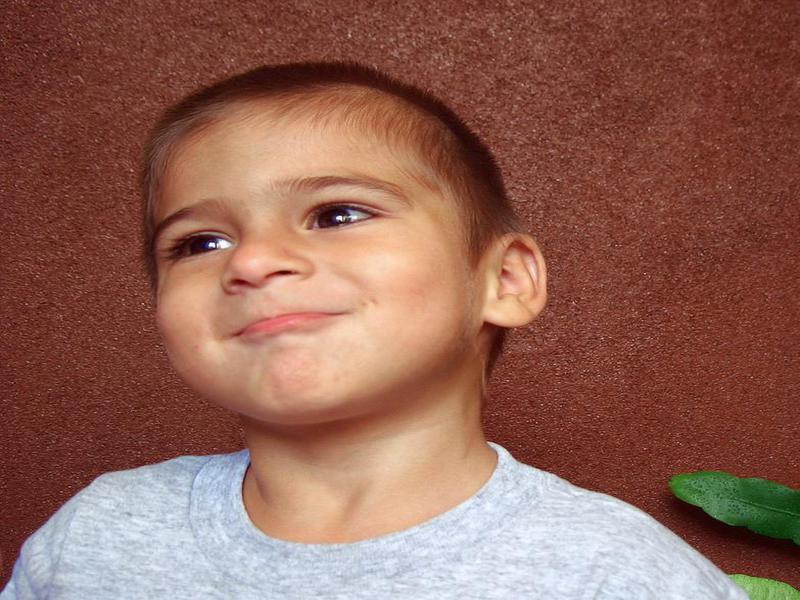person: (13, 67, 744, 600)
